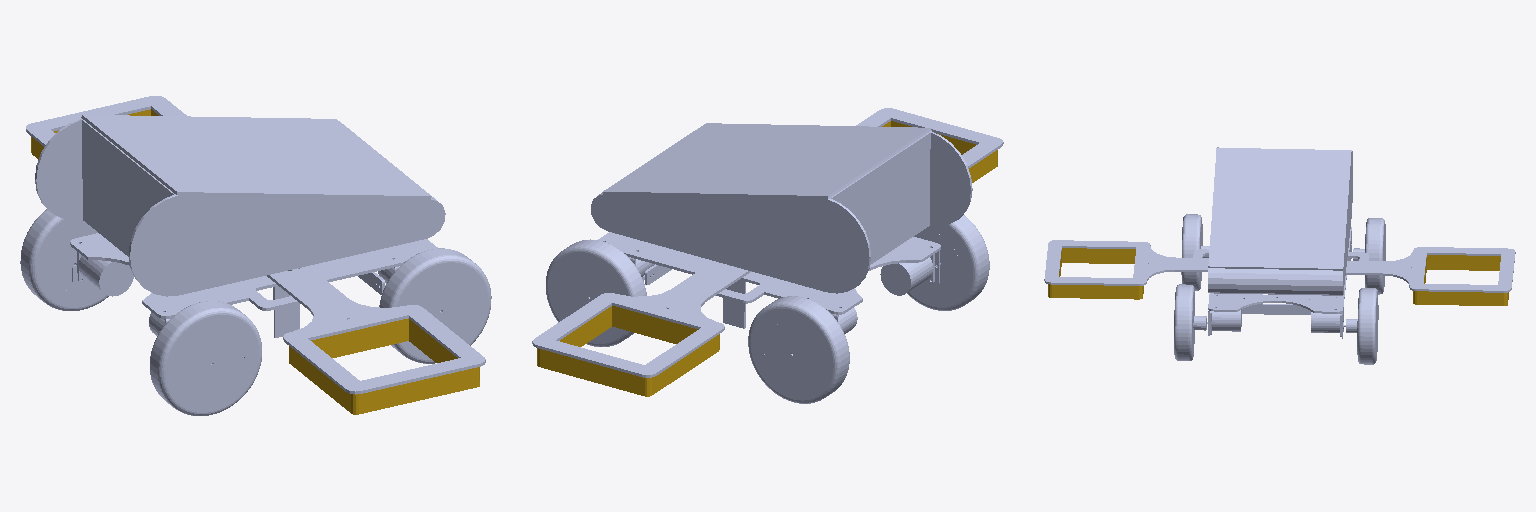
The robot description file, URDF, robot "thunder":
<robot
  name="thunder">
  <link
    name="thunder">
    <inertial>
      <origin
        xyz="-0.012483 -0.0075441 0.0057085"
        rpy="0 0 0" />
      <mass
        value="14.034" />
      <inertia
        ixx="0.80119"
        ixy="0.024664"
        ixz="0.0024579"
        iyy="1.3093"
        iyz="0.0011254"
        izz="0.74526" />
    </inertial>
    <visual>
      <origin
        xyz="0 0 0"
        rpy="0 0 0" />
      <geometry>
        <mesh
          filename="package://urdf_tutorial/meshes/thunder.STL" />
      </geometry>
      <material
        name="">
        <color
          rgba="0.79216 0.81961 0.93333 1" />
      </material>
    </visual>
    <collision>
      <origin
        xyz="0 0 0"
        rpy="0 0 0" />
      <geometry>
        <mesh
          filename="package://urdf_tutorial/meshes/thunder.STL" />
      </geometry>
    </collision>
  </link>
  <link
    name="left_metal">
    <inertial>
      <origin
        xyz="2.22044604925031E-16 0 0.0225"
        rpy="0 0 0" />
      <mass
        value="1.16541716694116" />
      <inertia
        ixx="0.0107755998200475"
        ixy="-5.6920614055489E-19"
        ixz="-3.016919599883E-18"
        iyy="0.0107755998200475"
        iyz="4.90639864230113E-18"
        izz="0.0211578713462523" />
    </inertial>
    <visual>
      <origin
        xyz="0 0 0"
        rpy="0 0 0" />
      <geometry>
        <mesh
          filename="package://urdf_tutorial/meshes/left_metal.STL" />
      </geometry>
      <material
        name="">
        <color
          rgba="0.831372549019608 0.670588235294118 0.129411764705882 1" />
      </material>
    </visual>
    <collision>
      <origin
        xyz="0 0 0"
        rpy="0 0 0" />
      <geometry>
        <mesh
          filename="package://urdf_tutorial/meshes/left_metal.STL" />
      </geometry>
    </collision>
  </link>
  <joint
    name="left_metal"
    type="fixed">
    <origin
      xyz="0.0176548486088304 0.493455231002024 -0.045328450751239"
      rpy="0.00887526725334409 7.94683411807775E-05 -1.61458024787311" />
    <parent
      link="thunder" />
    <child
      link="left_metal" />
    <axis
      xyz="0 0 0" />
  </joint>
  <link
    name="right_metal">
    <inertial>
      <origin
        xyz="1.11022302462516E-16 4.85722573273506E-17 0.0225"
        rpy="0 0 0" />
      <mass
        value="1.16541716694116" />
      <inertia
        ixx="0.0107755998200475"
        ixy="1.62630325872826E-18"
        ixz="-3.16451509094207E-18"
        iyy="0.0107755998200475"
        iyz="4.73462300757592E-18"
        izz="0.0211578713462523" />
    </inertial>
    <visual>
      <origin
        xyz="0 0 0"
        rpy="0 0 0" />
      <geometry>
        <mesh
          filename="package://urdf_tutorial/meshes/right_metal.STL" />
      </geometry>
      <material
        name="">
        <color
          rgba="0.831372549019608 0.670588235294118 0.129411764705882 1" />
      </material>
    </visual>
    <collision>
      <origin
        xyz="0 0 0"
        rpy="0 0 0" />
      <geometry>
        <mesh
          filename="package://urdf_tutorial/meshes/right_metal.STL" />
      </geometry>
    </collision>
  </link>
  <joint
    name="right_metal"
    type="fixed">
    <origin
      xyz="-0.0261150844775622 -0.505586403086564 -0.0454079190923362"
      rpy="0.00887526725334409 7.94683411807792E-05 -1.61458024787311" />
    <parent
      link="thunder" />
    <child
      link="right_metal" />
    <axis
      xyz="0 0 0" />
  </joint>
</robot>

--- Facts derived from the render (not from the file) ---
The picture shows the robot from 3 angles, left to right: view 1: azimuth 30°, elevation 25°; view 2: azimuth 150°, elevation 25°; view 3: azimuth 270°, elevation 25°; orthographic projection.
Robot: thunder — 3 links, 2 joints (2 fixed); root link thunder; default pose: all joints at 0.
Links seen in each view (by area): view 1: thunder, right_metal; view 2: thunder, left_metal, right_metal; view 3: thunder, left_metal, right_metal.
Boxes of the visible links, x1,y1,x2,y2 form: thunder: (20, 96, 491, 415); right_metal: (289, 318, 479, 414); thunder: (532, 108, 1003, 403); left_metal: (537, 306, 719, 396); right_metal: (882, 121, 997, 182); thunder: (1044, 147, 1515, 364); left_metal: (1413, 255, 1508, 305); right_metal: (1048, 248, 1143, 299).
Bounding box of the posed robot: 0.7067 × 1.29 × 0.4125 m (x, y, z).
Meshes: 3 distinct files referenced, 3 mesh visuals loaded (3 binary STL).